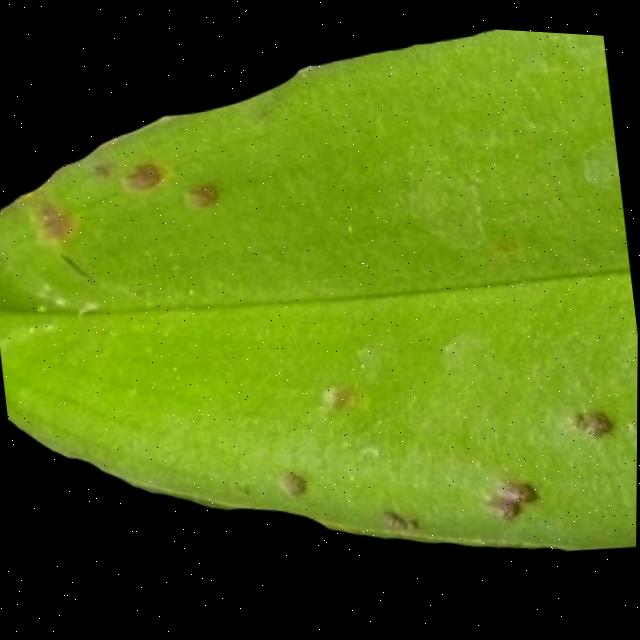mite: (267, 395, 634, 543), (473, 397, 630, 520), (87, 147, 227, 219), (58, 250, 99, 287), (89, 159, 117, 182)
spots: (0, 14, 638, 599)
sunburn: (479, 467, 545, 522), (567, 397, 620, 438)
